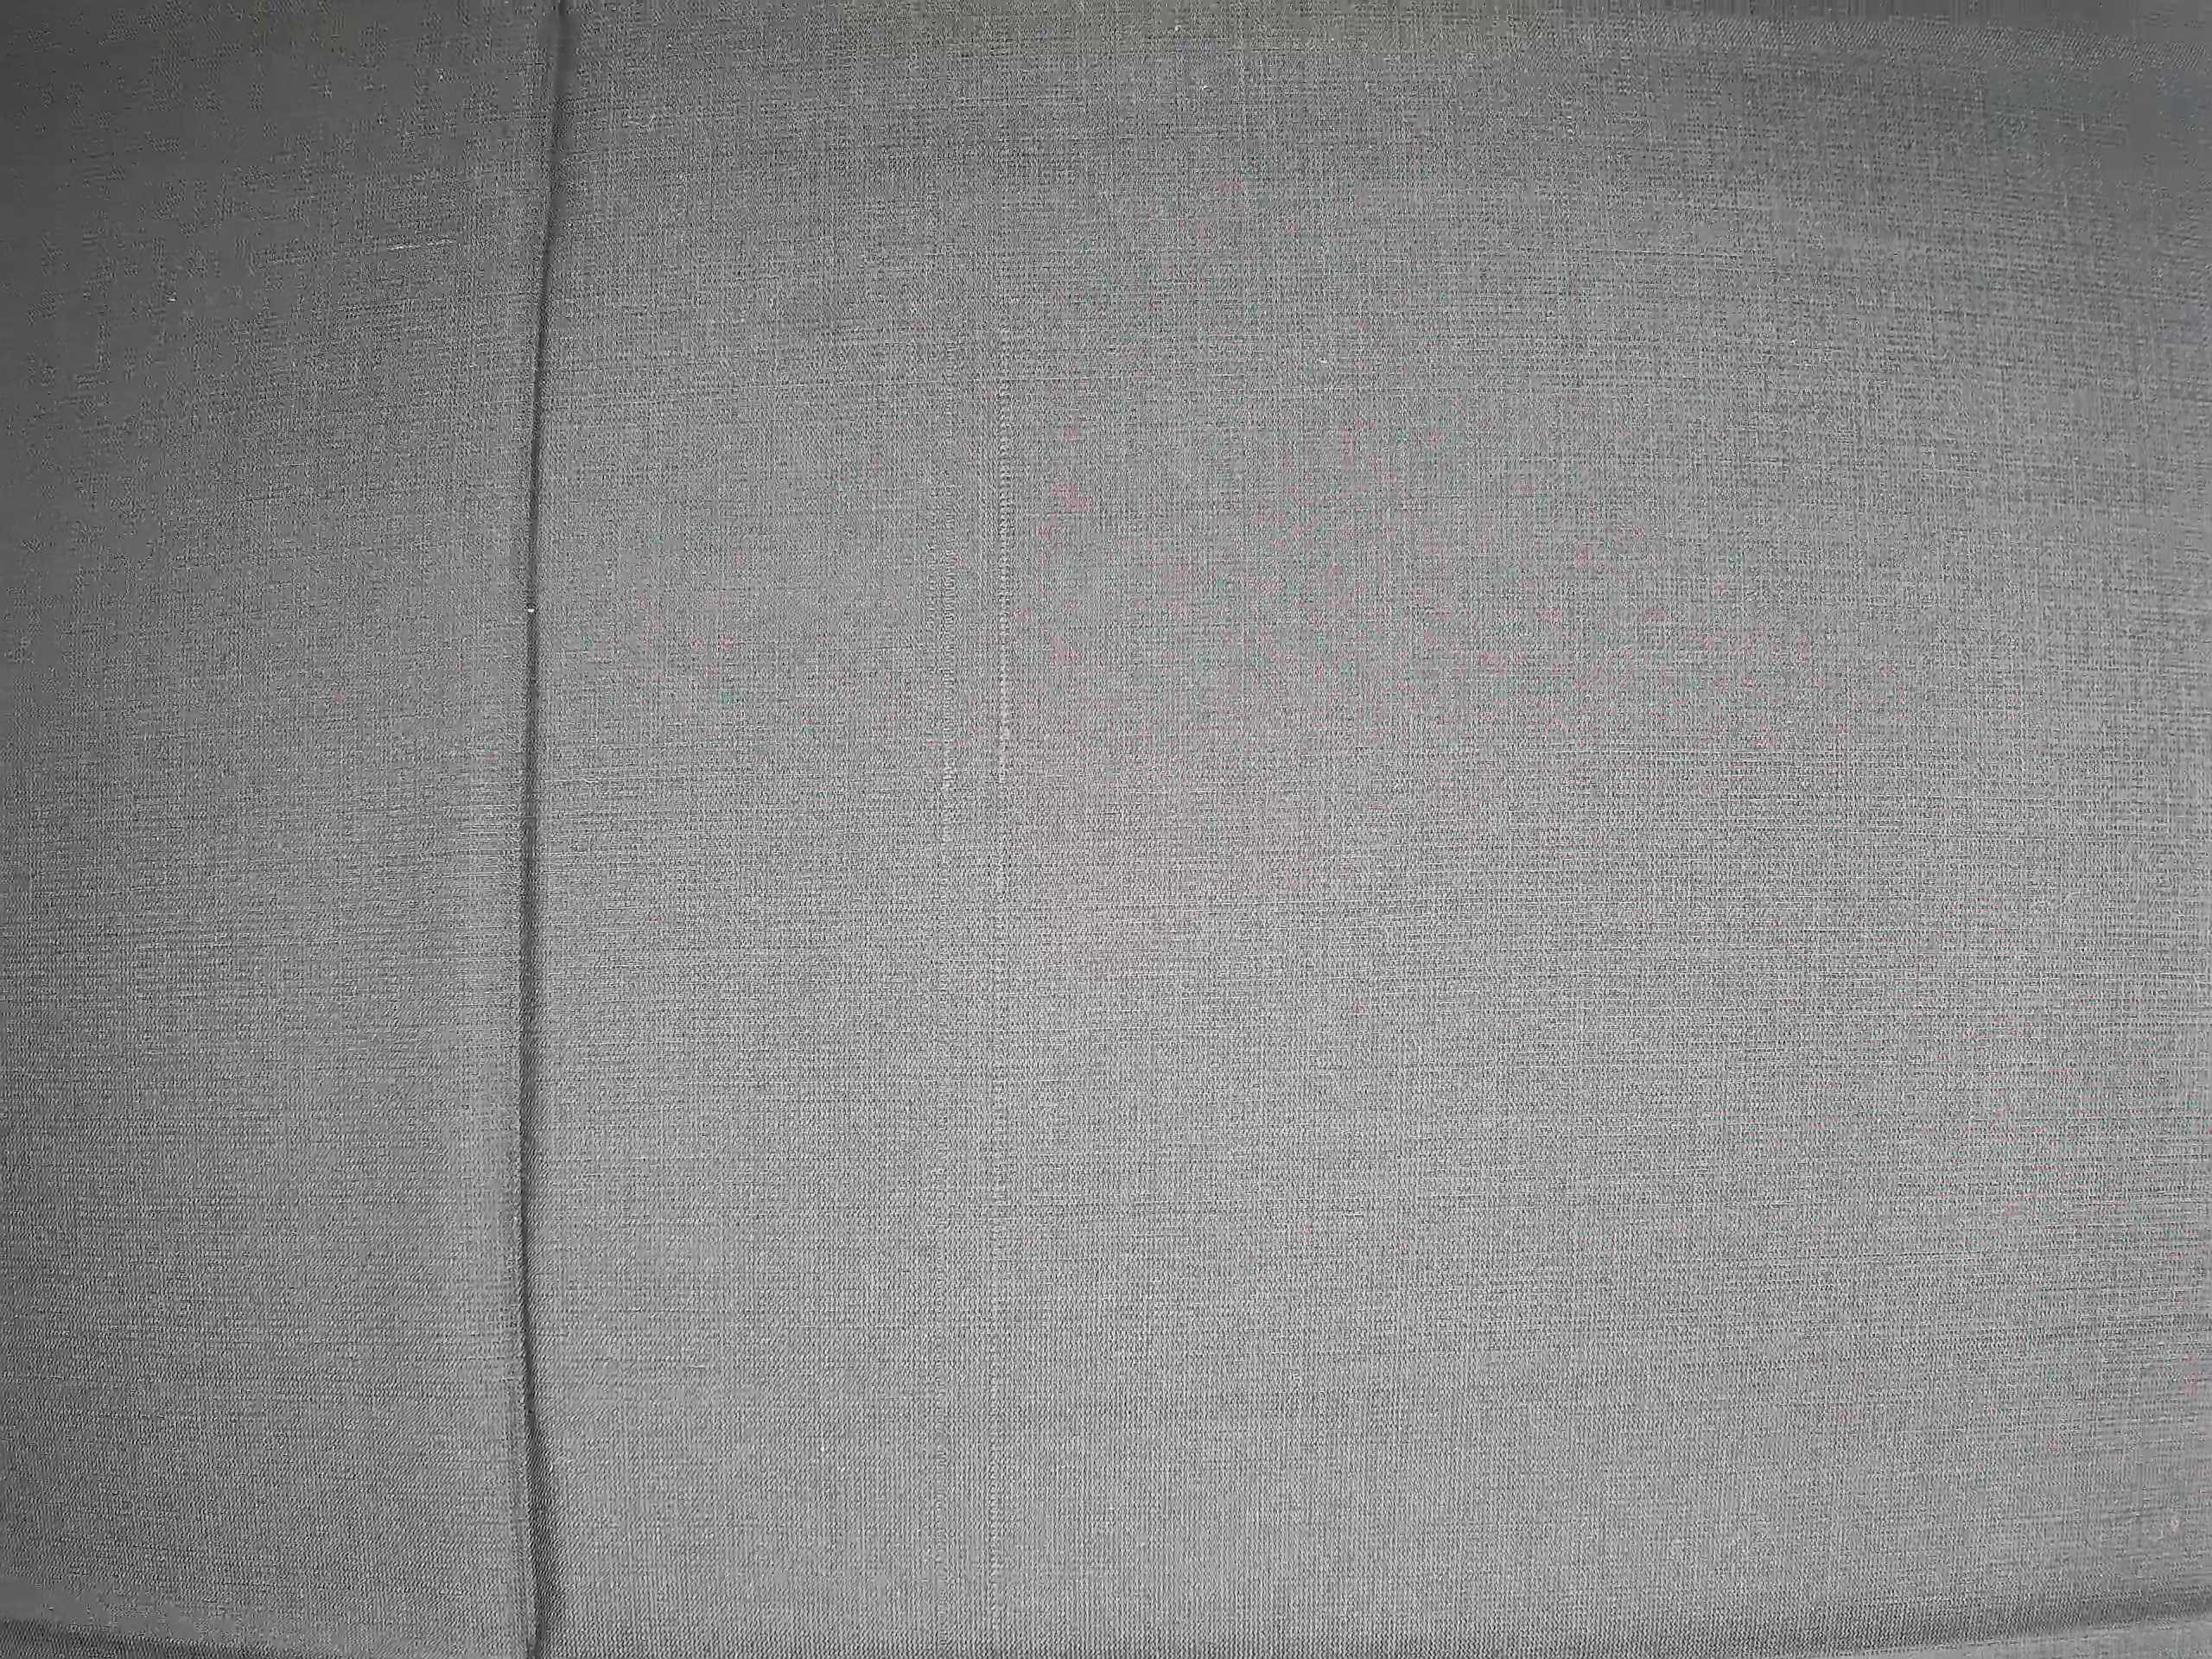hanging-warp: (979, 136, 1035, 1588), (916, 648, 965, 958)
